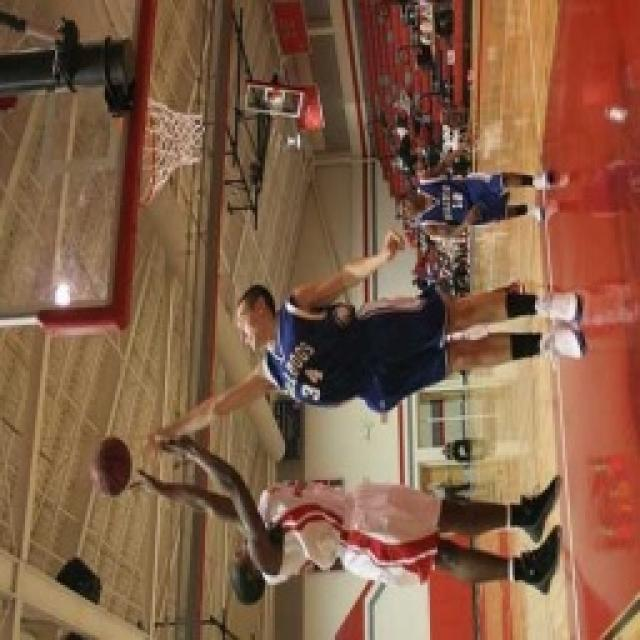rim: (84, 432, 137, 496)
